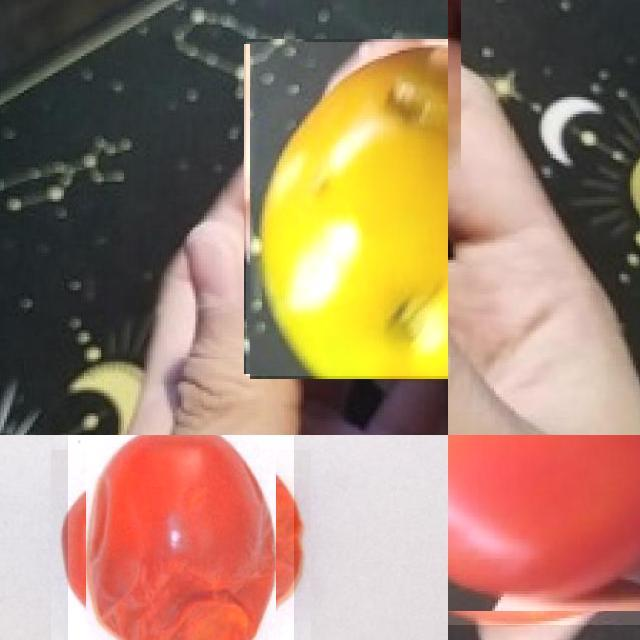Fresh Tomato: (448, 435, 640, 625)
Rotten Tomato: (246, 41, 448, 376), (68, 435, 293, 640)
